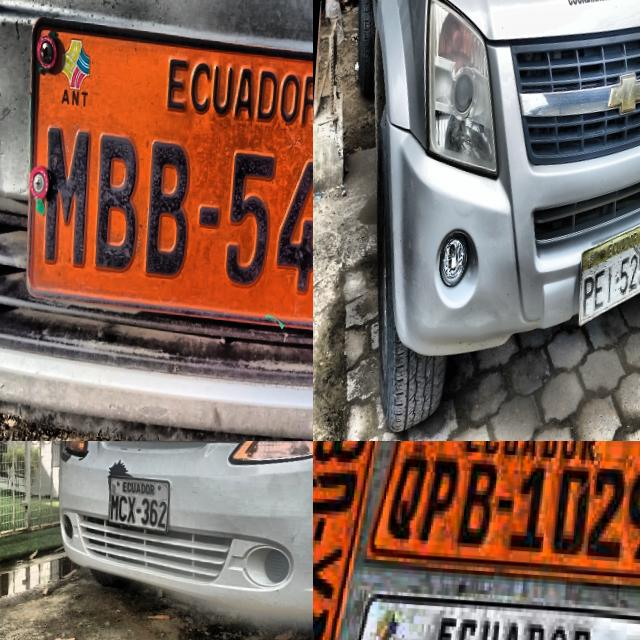license_plate: (10, 15, 313, 365), (359, 441, 640, 600), (342, 582, 640, 640), (575, 218, 640, 337), (107, 473, 172, 534)
